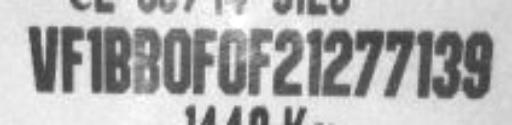letter: (270, 27, 306, 100), (130, 24, 164, 97), (26, 21, 60, 92), (352, 29, 386, 98), (382, 26, 414, 97), (322, 29, 354, 100), (430, 29, 462, 100), (462, 31, 494, 100), (102, 24, 132, 97), (162, 26, 192, 95), (218, 26, 248, 95), (58, 22, 86, 95), (246, 24, 274, 97), (191, 24, 217, 95), (413, 29, 437, 100), (84, 24, 106, 95), (302, 26, 322, 97)
